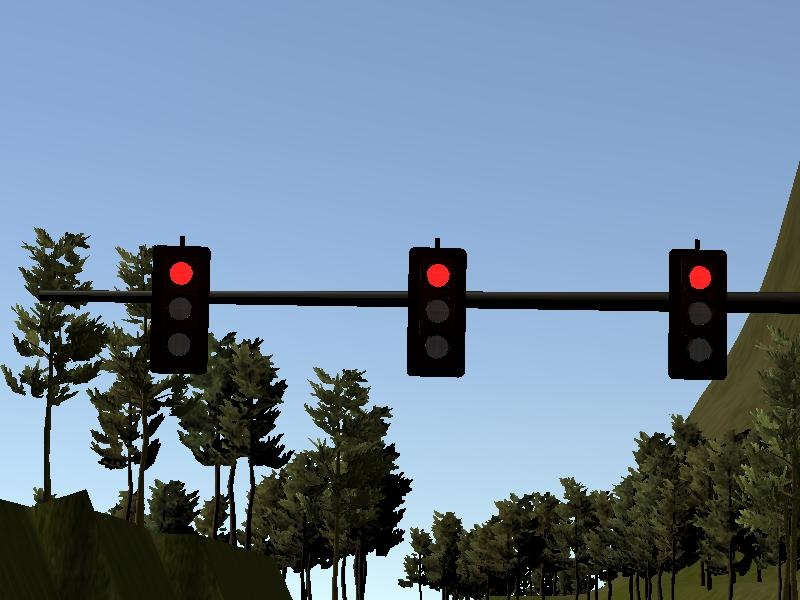RED: (666, 247, 728, 380), (407, 247, 466, 377), (151, 246, 210, 374)
